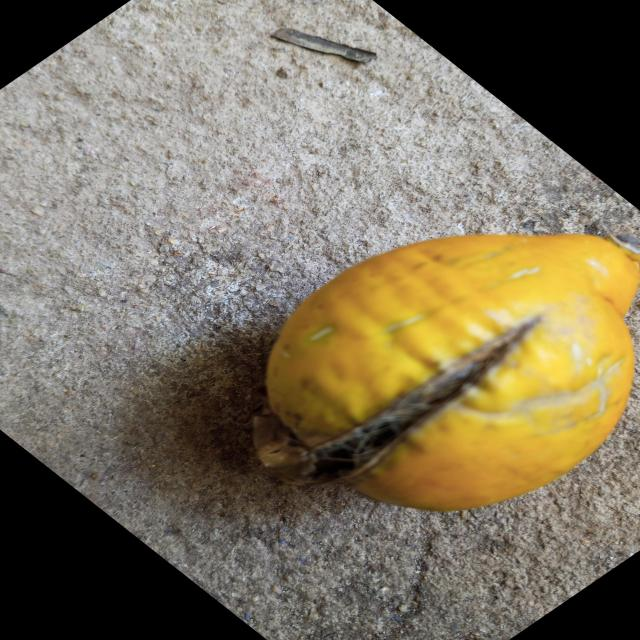damaged: (251, 234, 640, 511)
